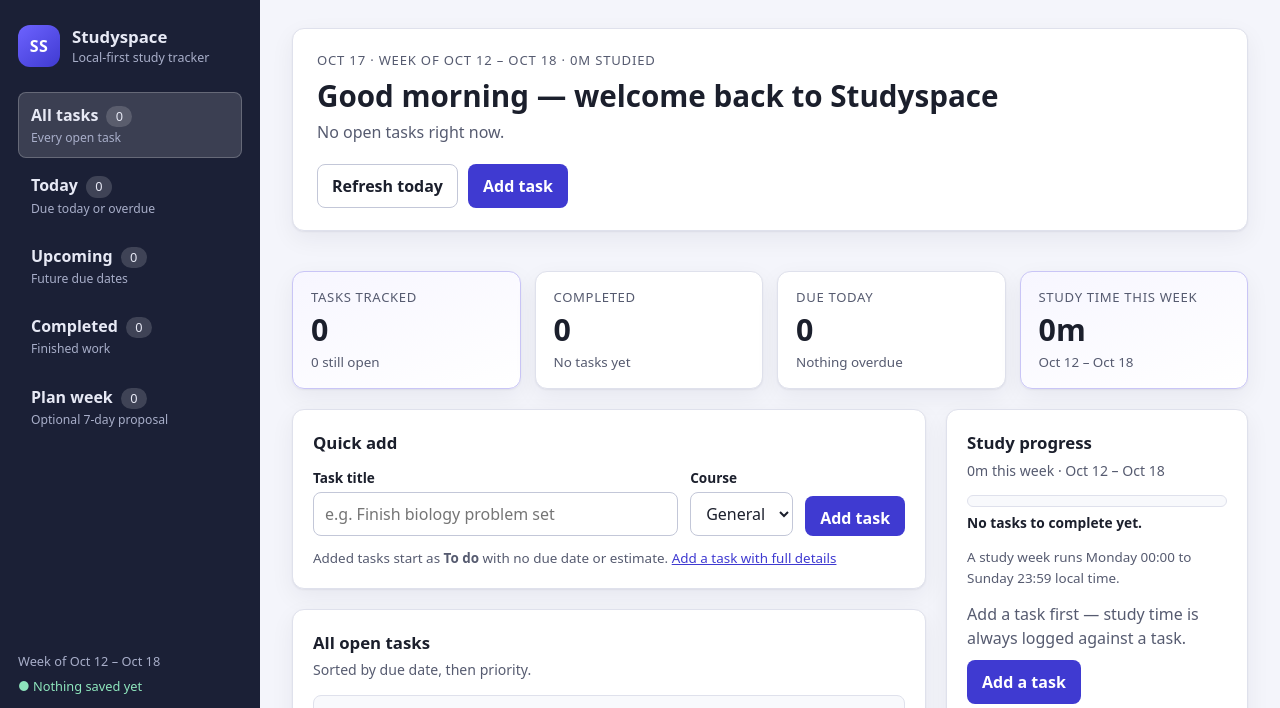
Test case: Studyspace dashboard workflows › logs study minutes against an existing task and totals them for the week
The width and height of the screenshot is (1280, 708).
In the field labelled "Task title": (496, 514) x1=313 y1=492 x2=678 y2=536, type "Statistics revision"
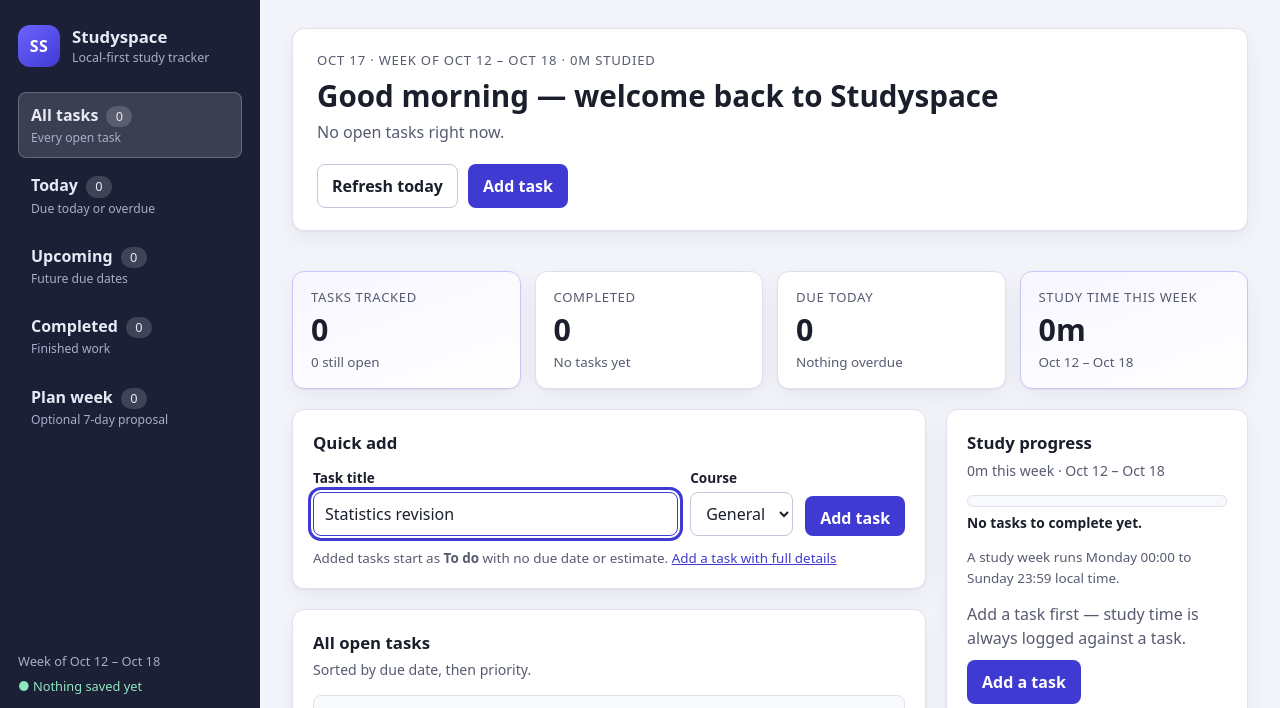
Click the button "Add task" next to "No tasks to complete yet.": (855, 516) x1=805 y1=496 x2=905 y2=536
(page scrolled)
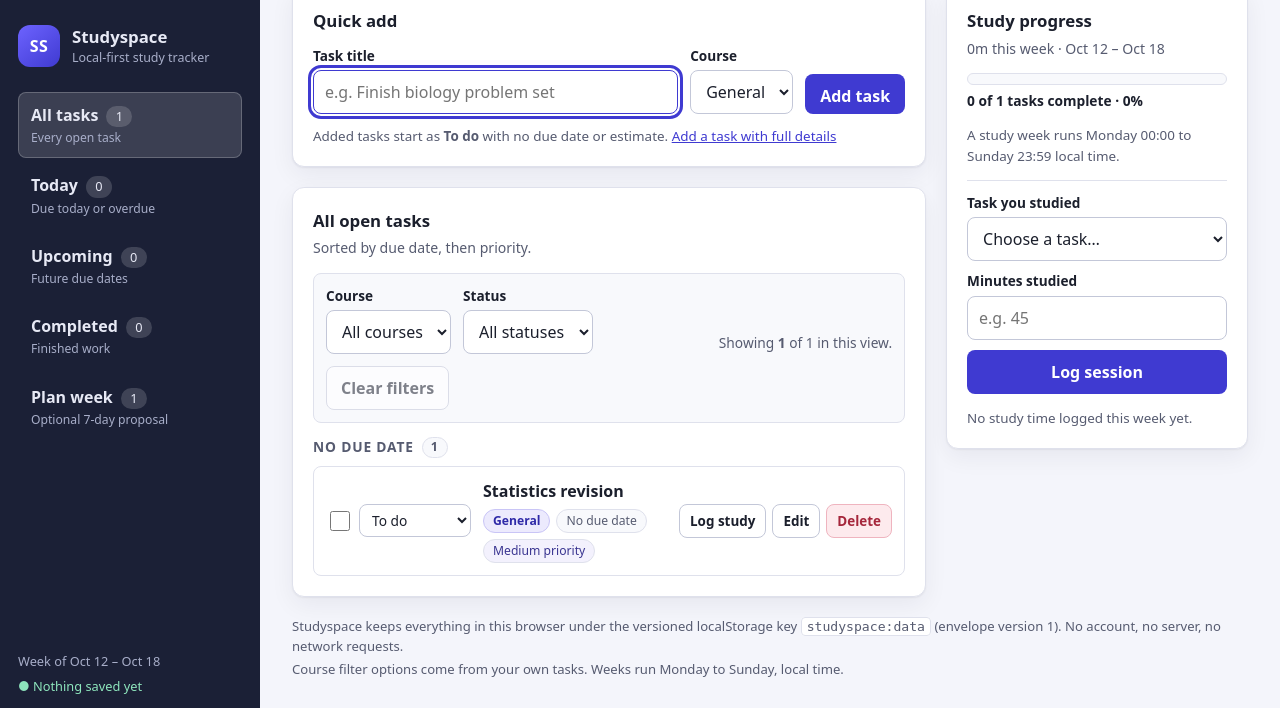
Expected: the text "Statistics revision" is shown, x1=483 y1=480 x2=624 y2=502
Click the button "Log study": (723, 521) x1=679 y1=504 x2=766 y2=538
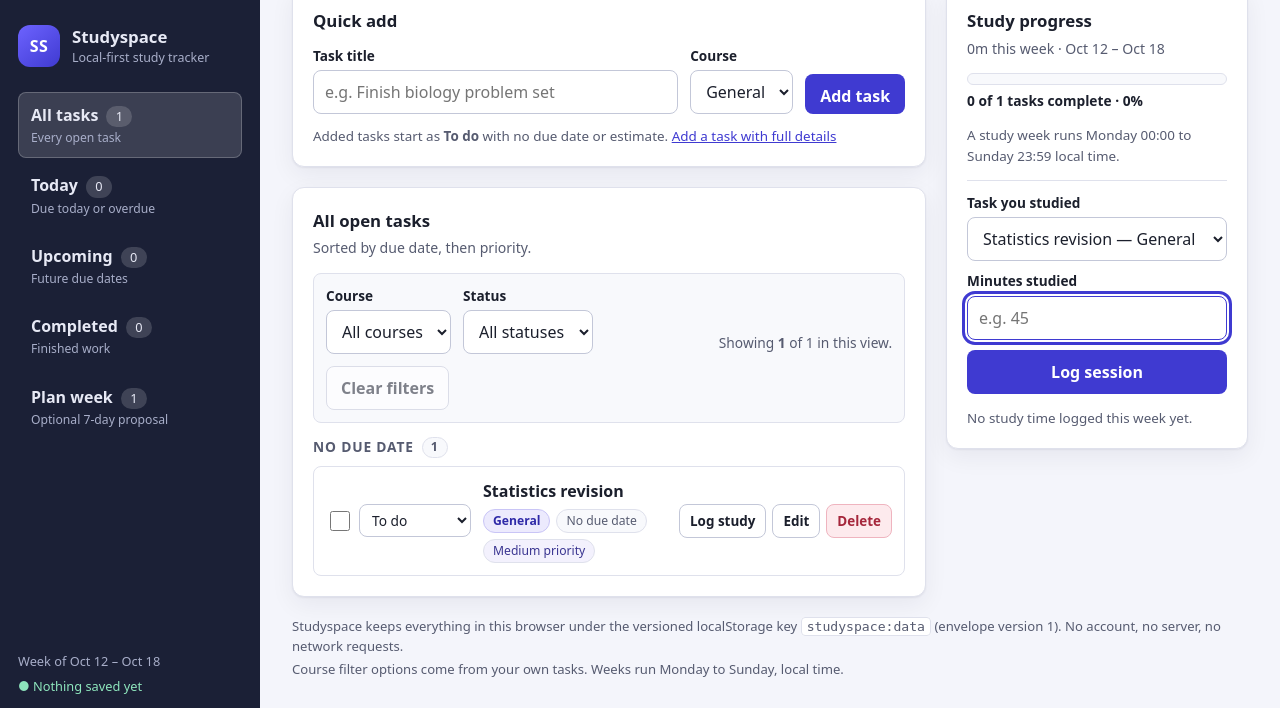
In the field labelled "Minutes studied": (1097, 318) x1=967 y1=296 x2=1227 y2=340, type "45"
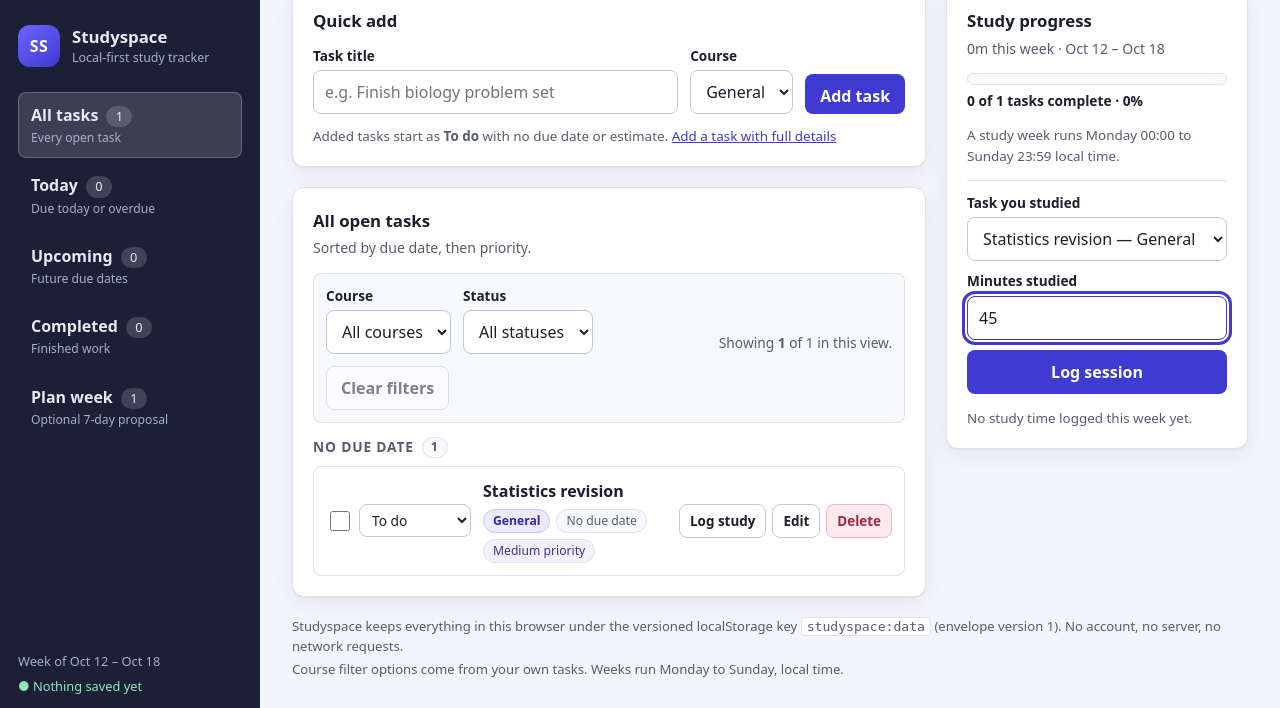
Click the button "Log session": (1097, 372) x1=967 y1=350 x2=1227 y2=394
(page scrolled)
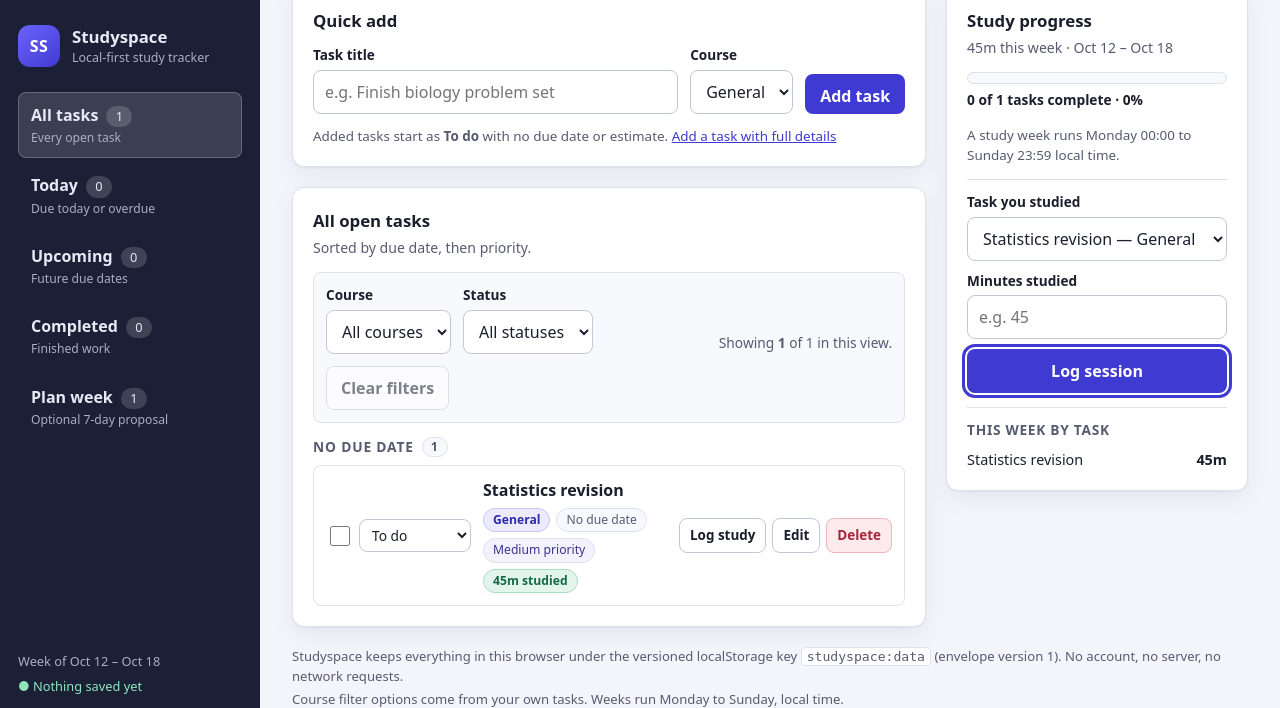
Expected: the heading "This week by task" is shown, x1=967 y1=420 x2=1110 y2=439
